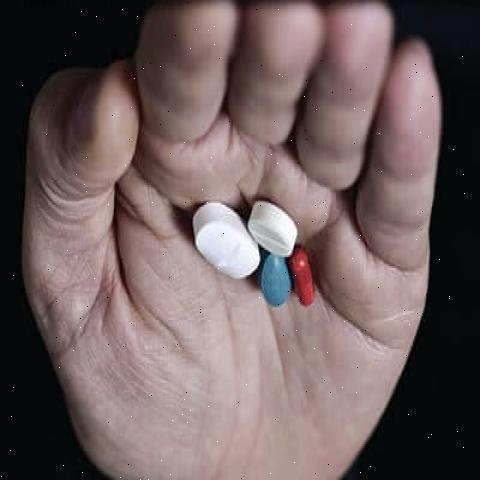Pill: (184, 190, 260, 296), (244, 182, 302, 265)
